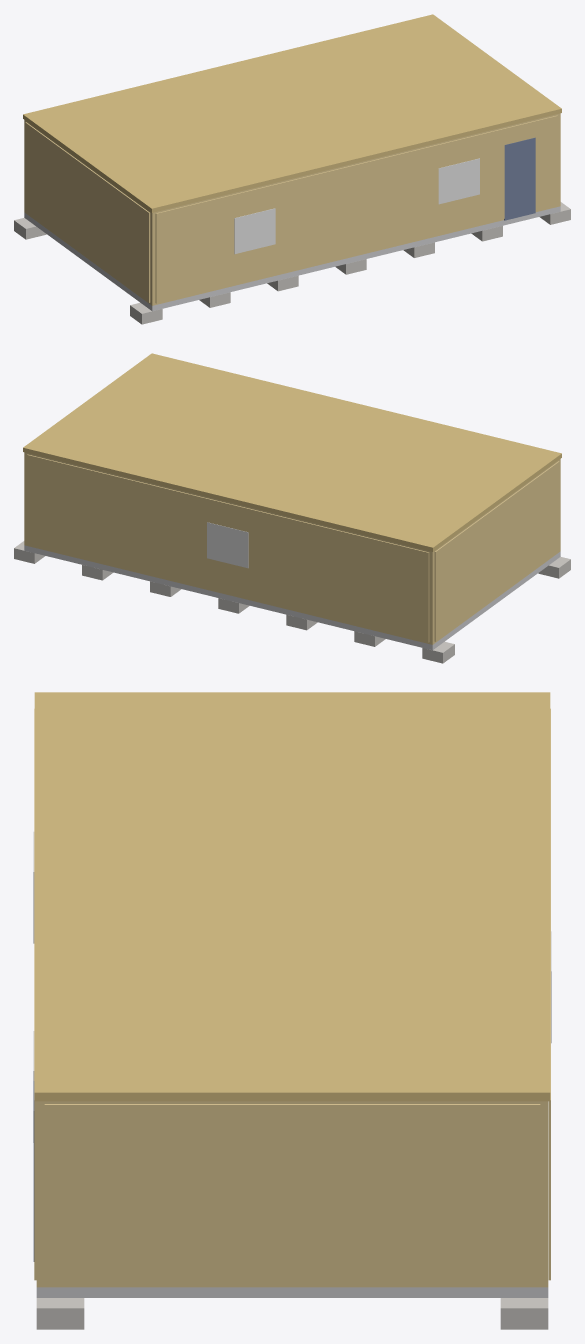
File: Studio-40-Base-GoldenTan-LOD1.glb
The picture shows the model from 3 angles, top to bottom: view 1: azimuth 30°, elevation 25°; view 2: azimuth 150°, elevation 25°; view 3: azimuth 270°, elevation 25°; orthographic projection. The views are drawn at different scales.
Visible parts, largest first — view 1: RoofMain, ExteriorPanelsStandard, BaseFrame, WindowsStandard, ExteriorShell, FoundationBlocks, EntryDoor; view 2: RoofMain, ExteriorPanelsStandard, BaseFrame, ExteriorShell, FoundationBlocks, WindowsStandard; view 3: RoofMain, ExteriorPanelsStandard, ExteriorShell, BaseFrame, FoundationBlocks.
Part boxes in pixels (box(x1,y1,x2,y2)): RoofMain: box(23, 14, 561, 212); ExteriorPanelsStandard: box(25, 115, 557, 303); BaseFrame: box(24, 206, 560, 311); WindowsStandard: box(234, 158, 479, 254); ExteriorShell: box(24, 113, 560, 305); FoundationBlocks: box(14, 202, 570, 324); EntryDoor: box(504, 137, 535, 220); RoofMain: box(23, 353, 561, 551); ExteriorPanelsStandard: box(27, 454, 559, 642); BaseFrame: box(24, 545, 560, 650); ExteriorShell: box(24, 452, 560, 644); FoundationBlocks: box(14, 541, 570, 663); WindowsStandard: box(207, 522, 248, 568); RoofMain: box(34, 692, 550, 1101); ExteriorPanelsStandard: box(34, 708, 550, 1284); ExteriorShell: box(36, 1101, 548, 1287); BaseFrame: box(36, 1287, 548, 1297); FoundationBlocks: box(36, 1298, 548, 1329).
Bounding box in the file's own units: 12.49 × 3.17 × 6.53.
